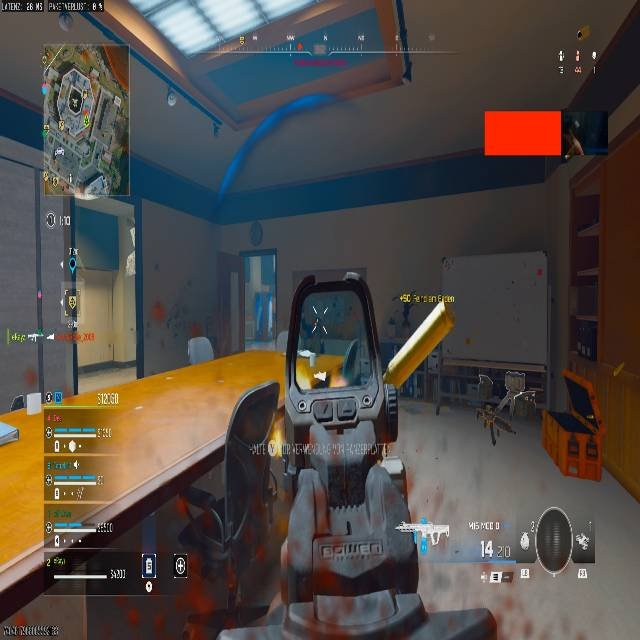player: (471, 371, 518, 447)
